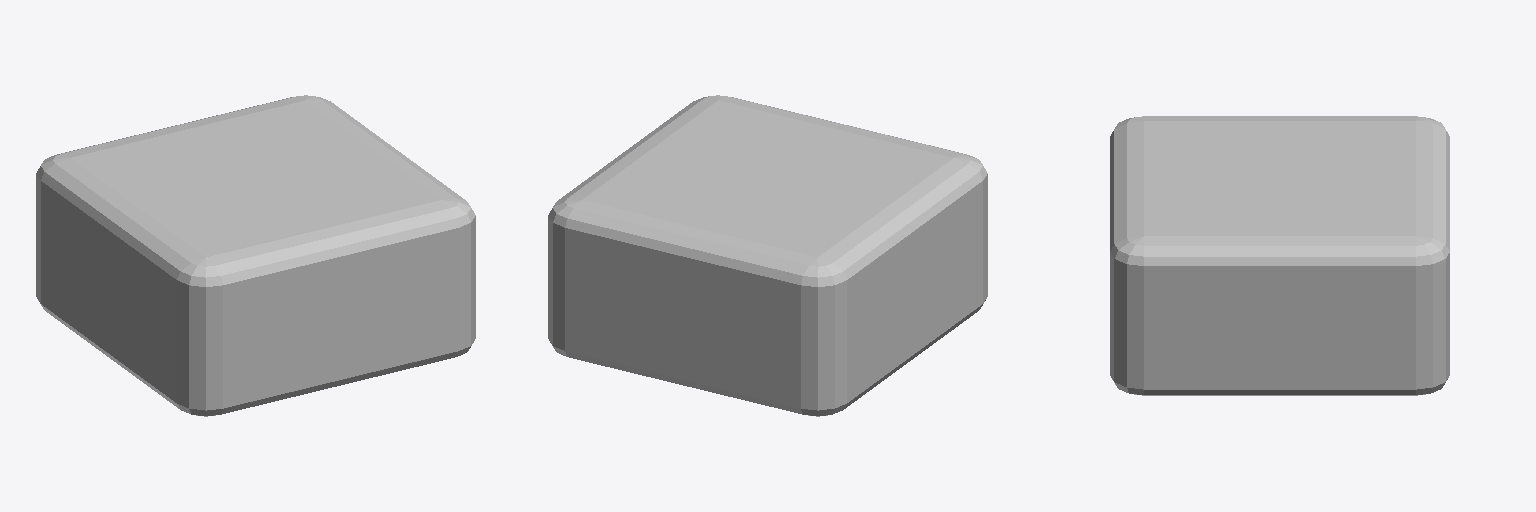
The model's file is blockRounded.obj.
The picture shows the model from 3 angles: view 1: azimuth 30°, elevation 25°; view 2: azimuth 150°, elevation 25°; view 3: azimuth 270°, elevation 25°; orthographic projection.
Parts seen in each view (by area): view 1: blockRounded; view 2: blockRounded; view 3: blockRounded.
Part boxes in pixels (x1,y1,x2,y2): blockRounded: (36,95,475,416); blockRounded: (548,95,987,416); blockRounded: (1110,116,1449,395).
Bounding box in the file's own units: 4.22 × 2.11 × 4.22.